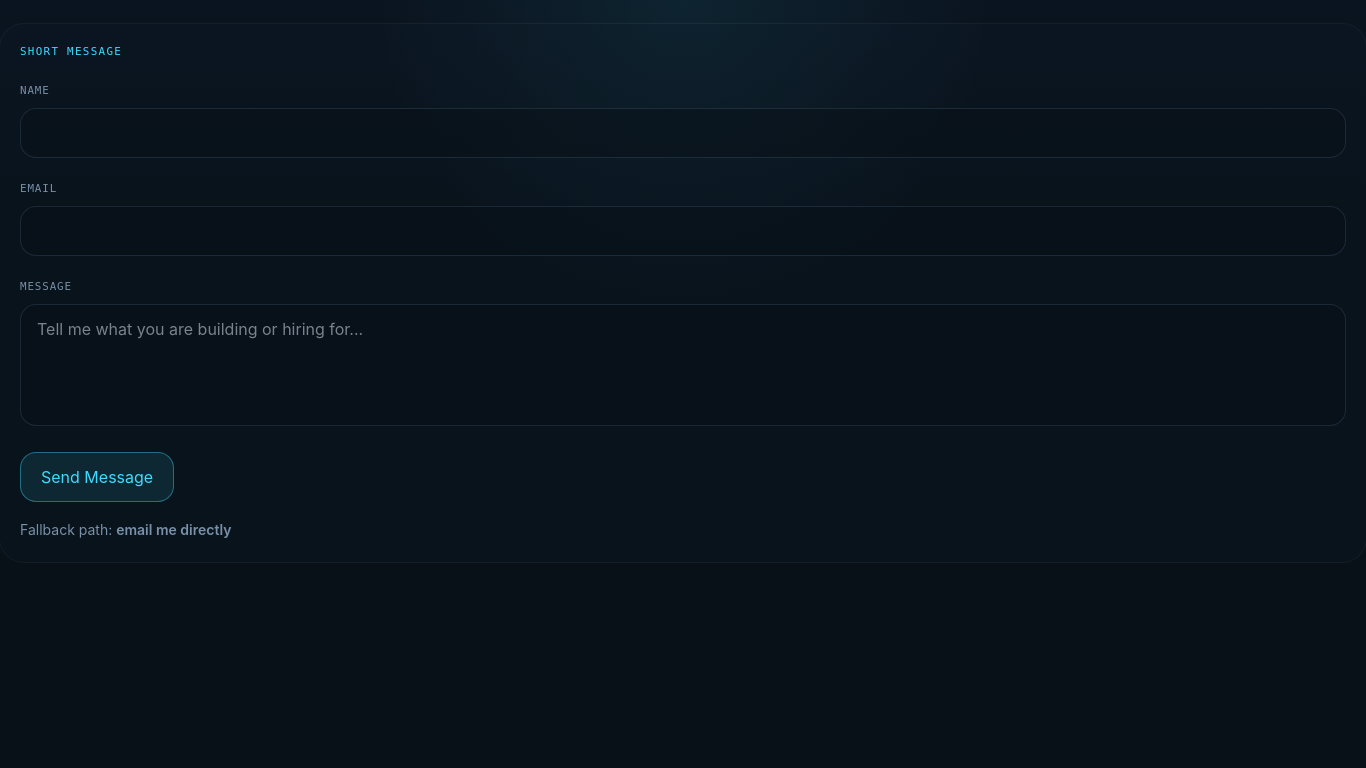
Test: ContactForm › prevents double submission while submitting
Type "Thapelo" into the field labelled "Name" at (683, 133), box x1=20 y1=108 x2=1346 y2=158
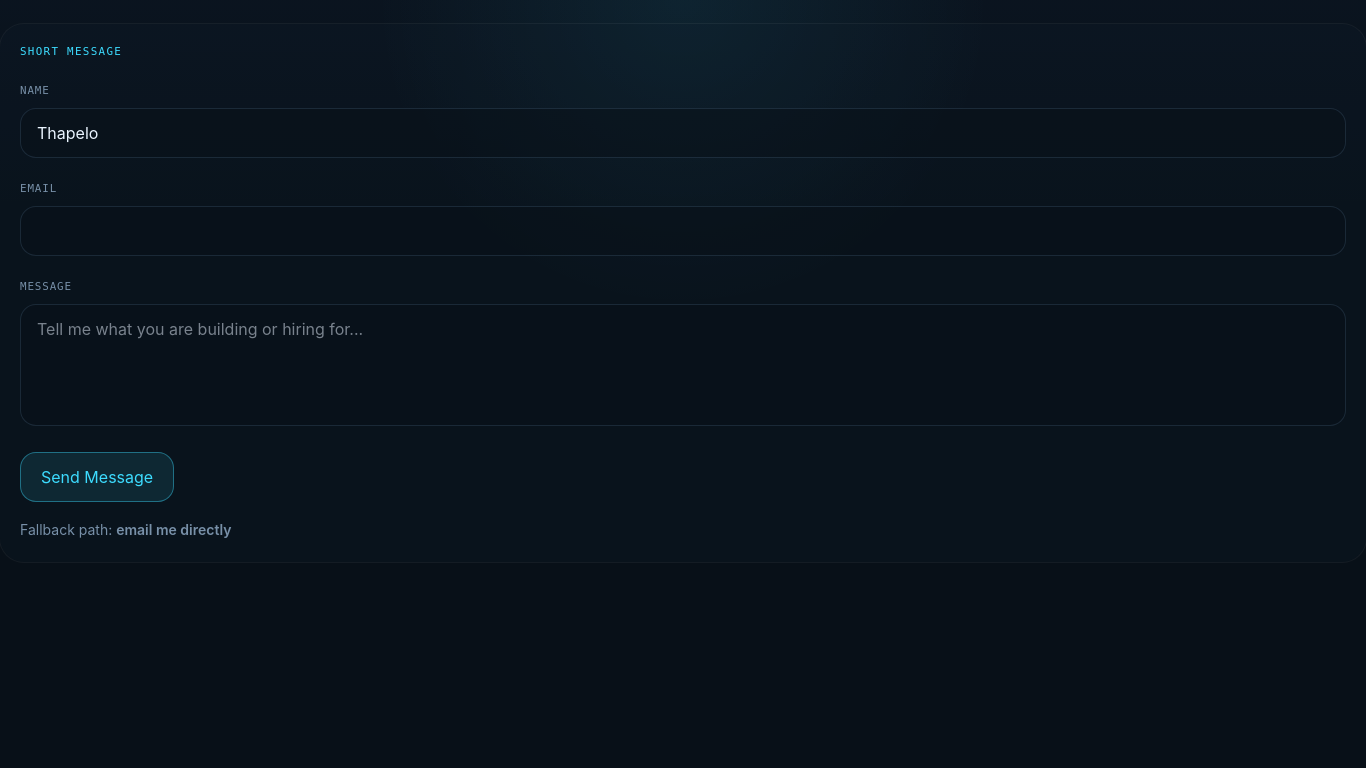
Type "test@example.com" into the field labelled "Email" at (683, 231), box x1=20 y1=206 x2=1346 y2=256
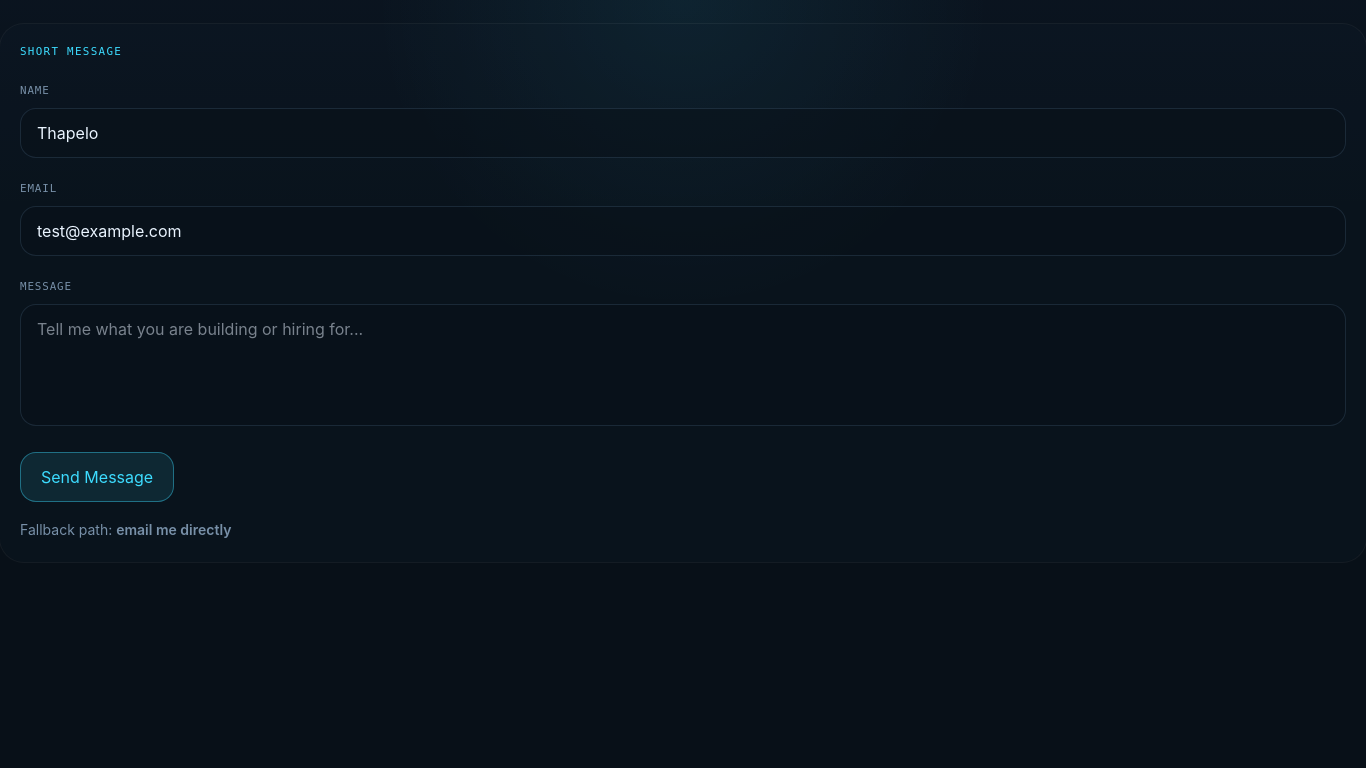
Type "Hello there." into the text box labelled "Message" at (683, 365), box x1=20 y1=304 x2=1346 y2=426
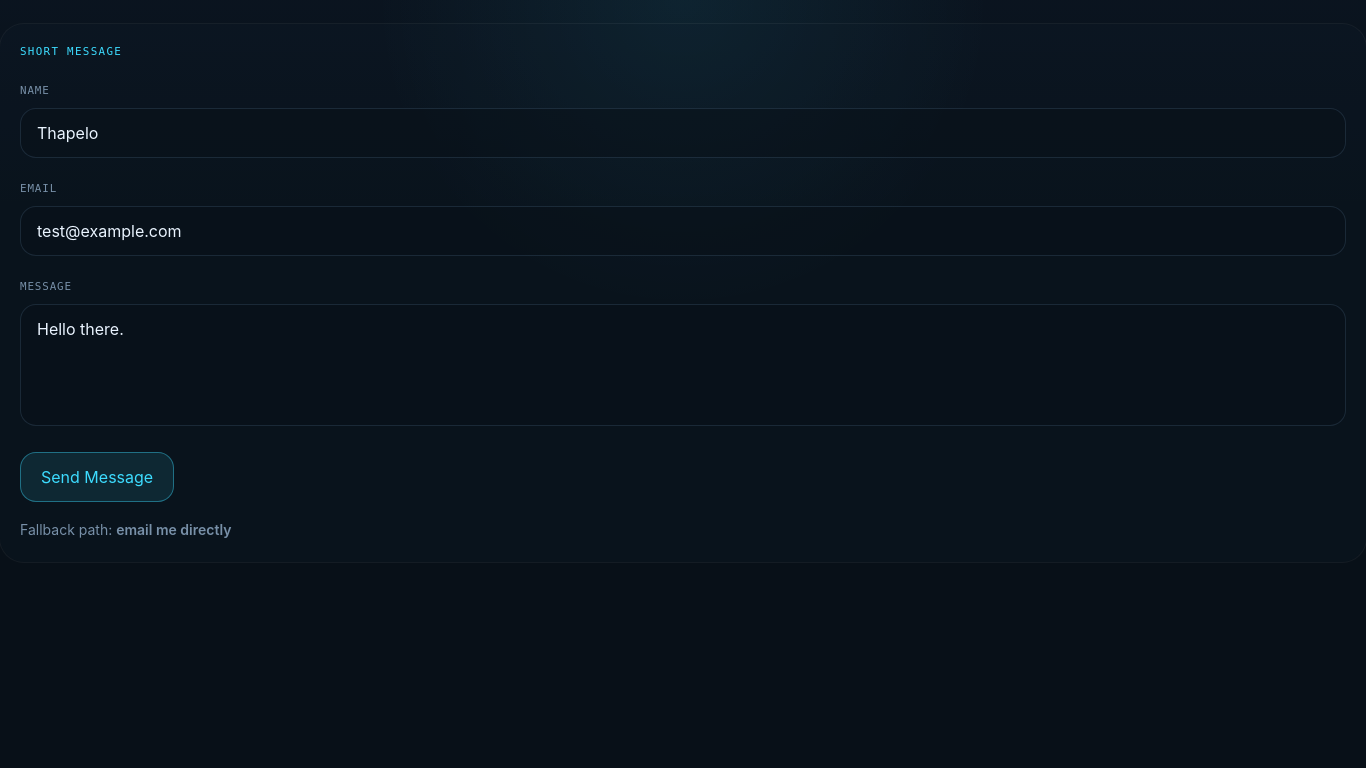
Click the button "Send Message" at (97, 477), box x1=20 y1=452 x2=174 y2=502
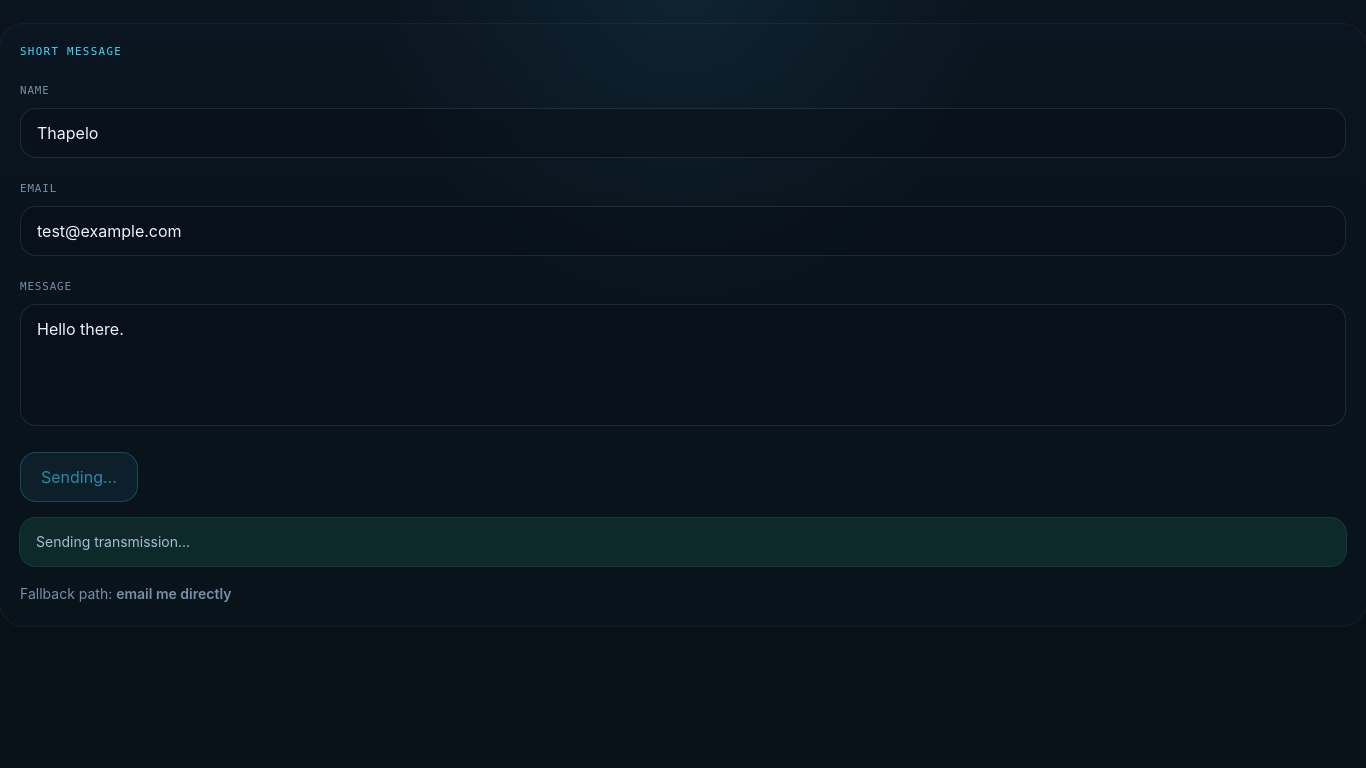
expect the button named "send message" is disabled: met, box x1=20 y1=452 x2=138 y2=502
